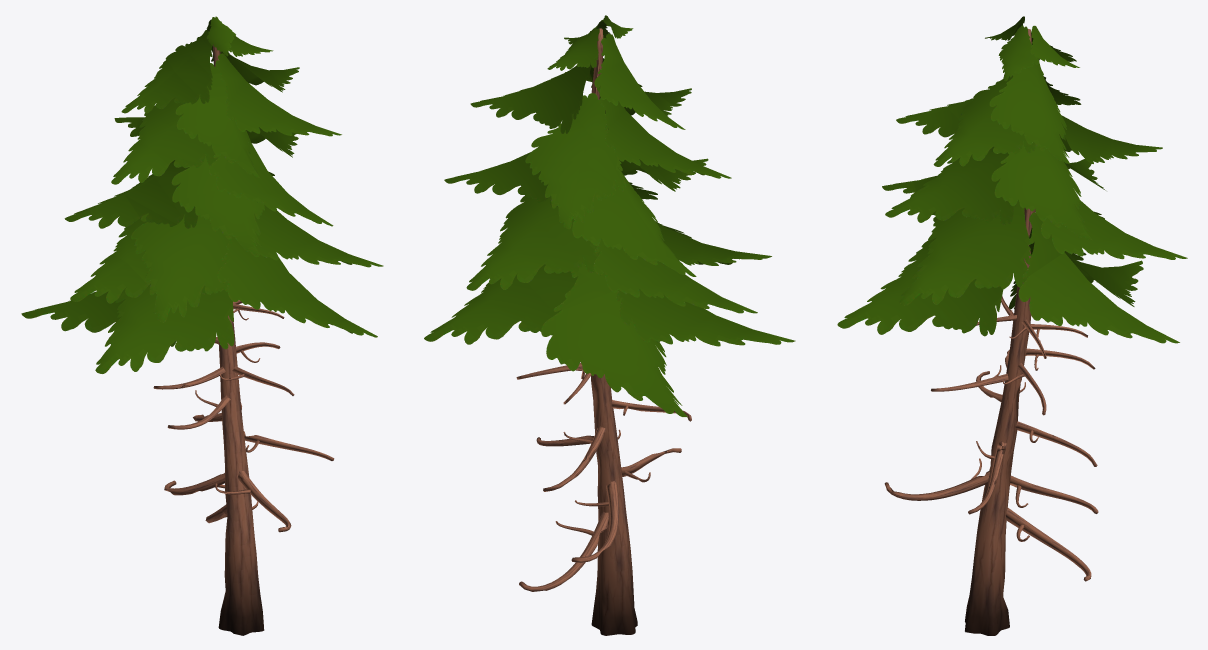
File: Pine_3.glb
The picture shows the model from 3 angles, left to right: view 1: azimuth 30°, elevation 25°; view 2: azimuth 150°, elevation 25°; view 3: azimuth 270°, elevation 25°; orthographic projection. The views are drawn at different scales.
Parts seen in each view (by area): view 1: Pine_3; view 2: Pine_3; view 3: Pine_3.
Part boxes in pixels (x1=…): Pine_3: x1=21, y1=16, x2=383, y2=635; Pine_3: x1=424, y1=15, x2=795, y2=635; Pine_3: x1=837, y1=16, x2=1187, y2=635.
Size of the model in its own units: 3.61 by 7.39 by 4.
2 materials, 2 textured.
